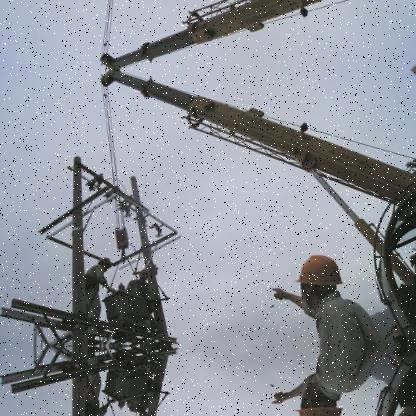Helmet: (294, 251, 347, 308)
